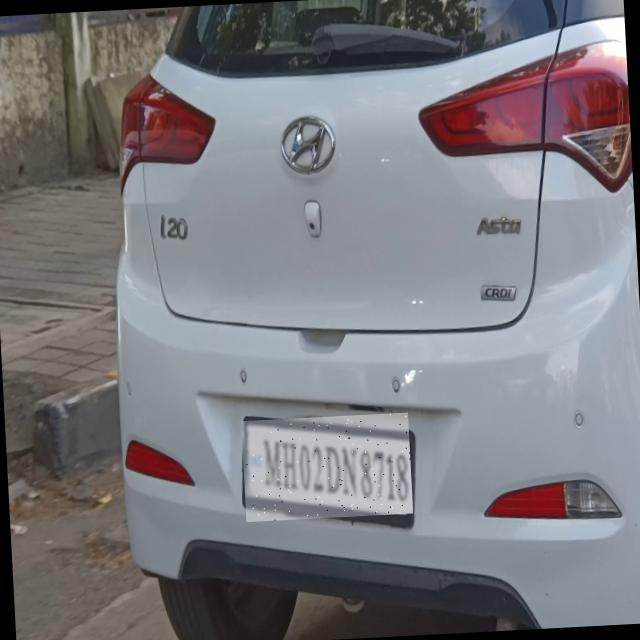Plate: (242, 414, 414, 524)
